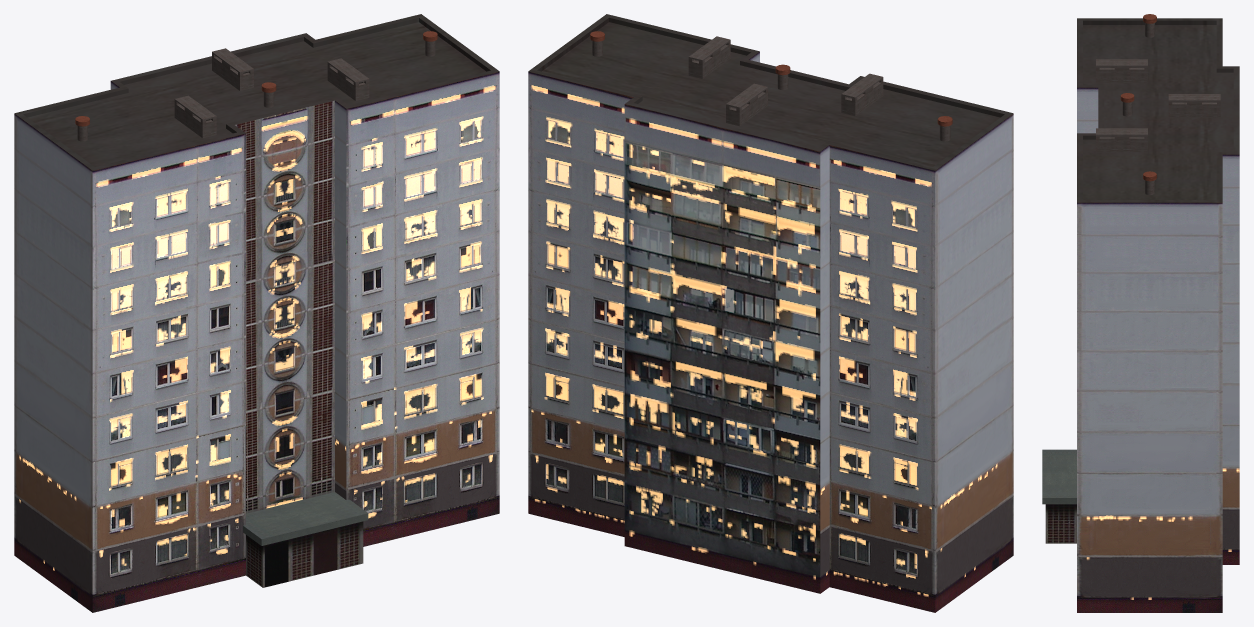
The model's file is sov_p9.glb.
3 renders of one model, left to right at view 1: azimuth 30°, elevation 25°; view 2: azimuth 150°, elevation 25°; view 3: azimuth 270°, elevation 25°, orthographic. The views are drawn at different scales.
Visible parts, largest first — view 1: spah9lvl; view 2: spah9lvl; view 3: spah9lvl.
Boxes of the visible parts, x1,y1,x2,y2 form: spah9lvl: [14, 14, 499, 612]; spah9lvl: [528, 14, 1013, 612]; spah9lvl: [1042, 14, 1239, 612].
Bounding box in the file's own units: 29.3 × 31.5 × 13.27.
Materials: 1 (1 with a texture image).
